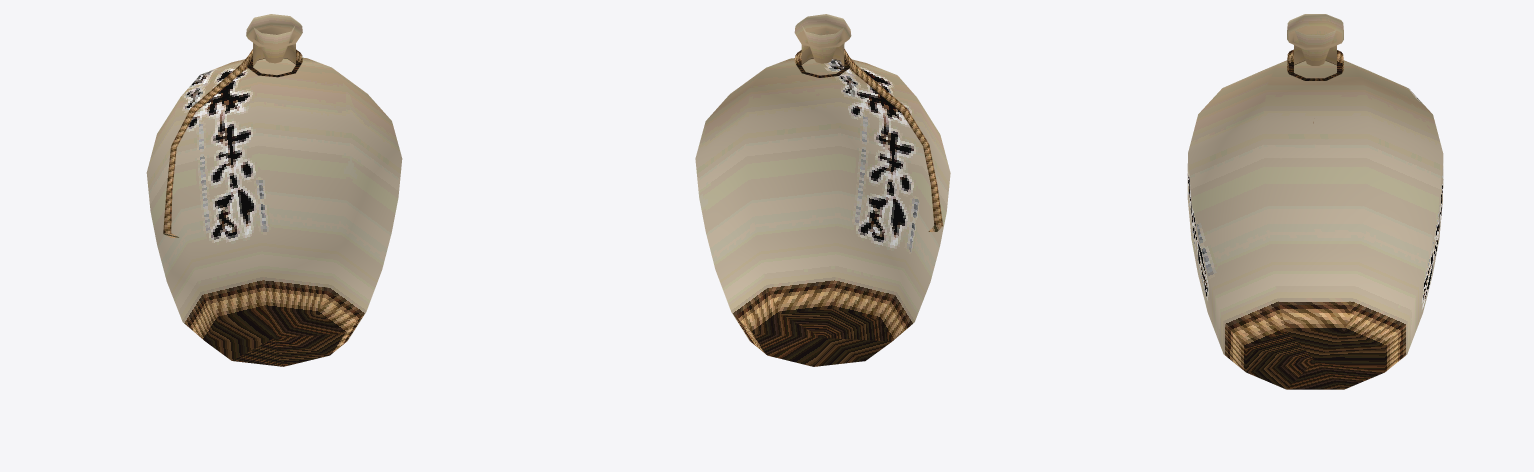
Rendered from ps2_save-icons_fuunbakumatsuden.glb.
The picture shows the model from 3 angles, left to right: view 1: azimuth 30°, elevation 25°; view 2: azimuth 150°, elevation 25°; view 3: azimuth 270°, elevation 25°; orthographic projection. The views are drawn at different scales.
Visible parts, largest first — view 1: fuun.ico; view 2: fuun.ico; view 3: fuun.ico.
Part boxes in pixels (x1,y1,x2,y2): fuun.ico: (146, 14, 402, 366); fuun.ico: (695, 14, 950, 366); fuun.ico: (1187, 14, 1443, 389).
Bounding box in the file's own units: 5 × 4.69 × 5.
1 material, 1 textured.
